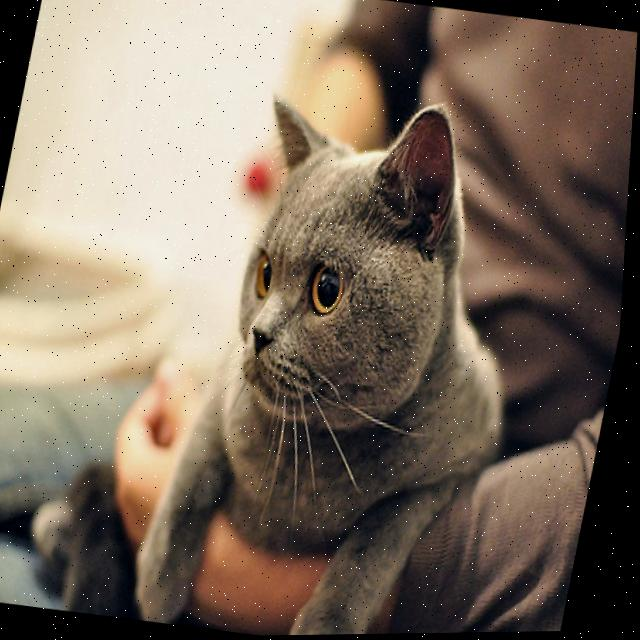British Shorthair: (130, 71, 569, 638)
